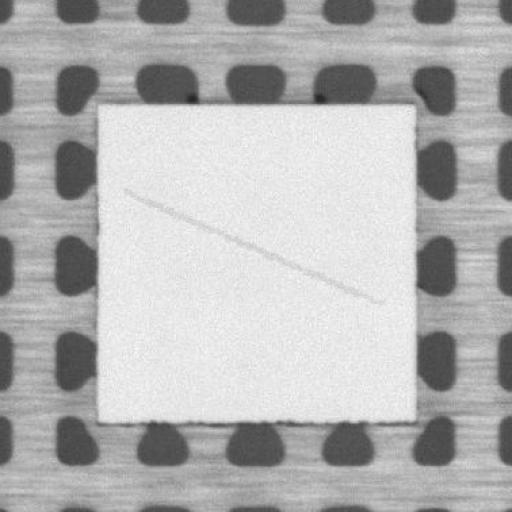DIE_CRACK: (123, 191, 380, 303)
